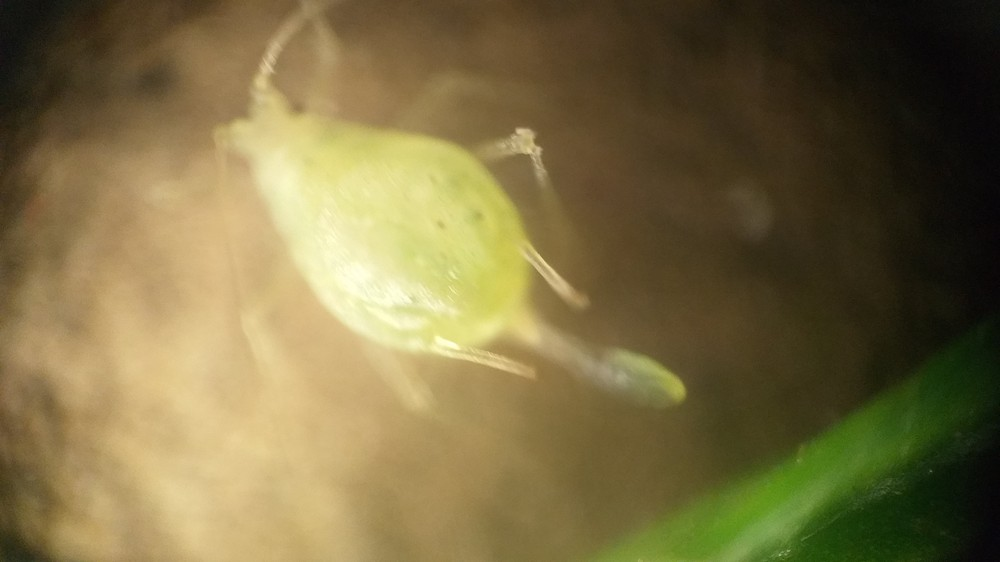Pulgon: (177, 29, 701, 440)
